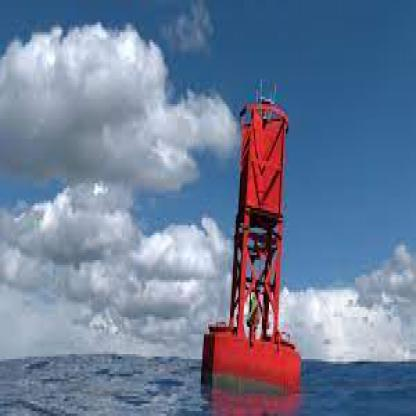buoy: (200, 67, 313, 399)
